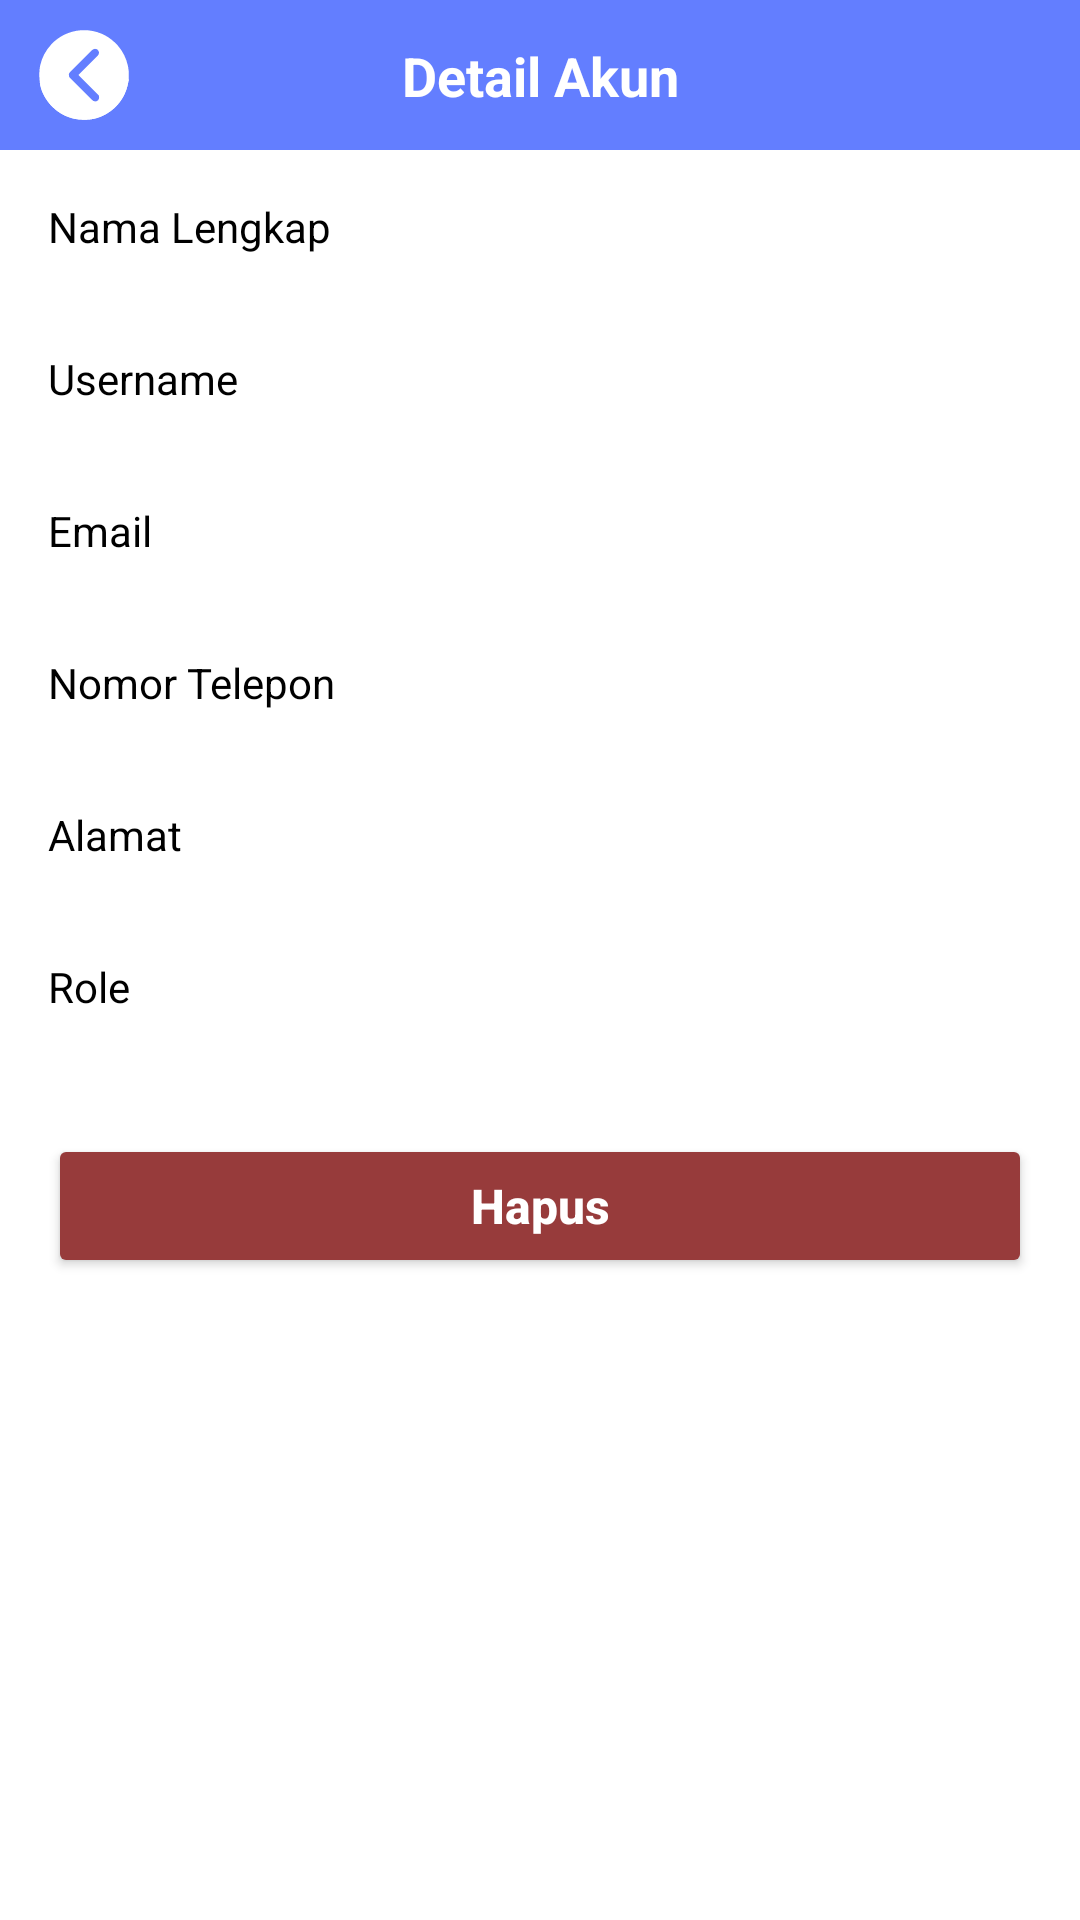

Icons on this 1080w x 1920h Android screen, each with its box as bbox=(x1, y1, x2, y2):
Kembali: bbox=(39, 30, 129, 120)
